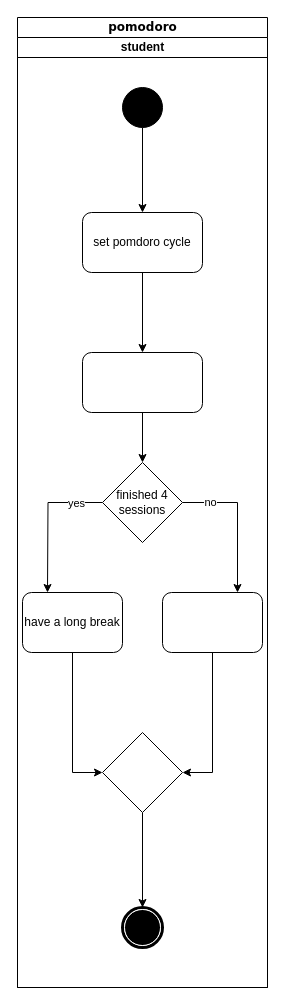
Some shapes in this 285 by 1005 pixel diagram are drawn without their labels. The shapes that lost their labels are listed below. From the top down, each one's centre as x and y in pixels, then its label:
the point at 142,382: start learning
the point at 212,622: have a short break
